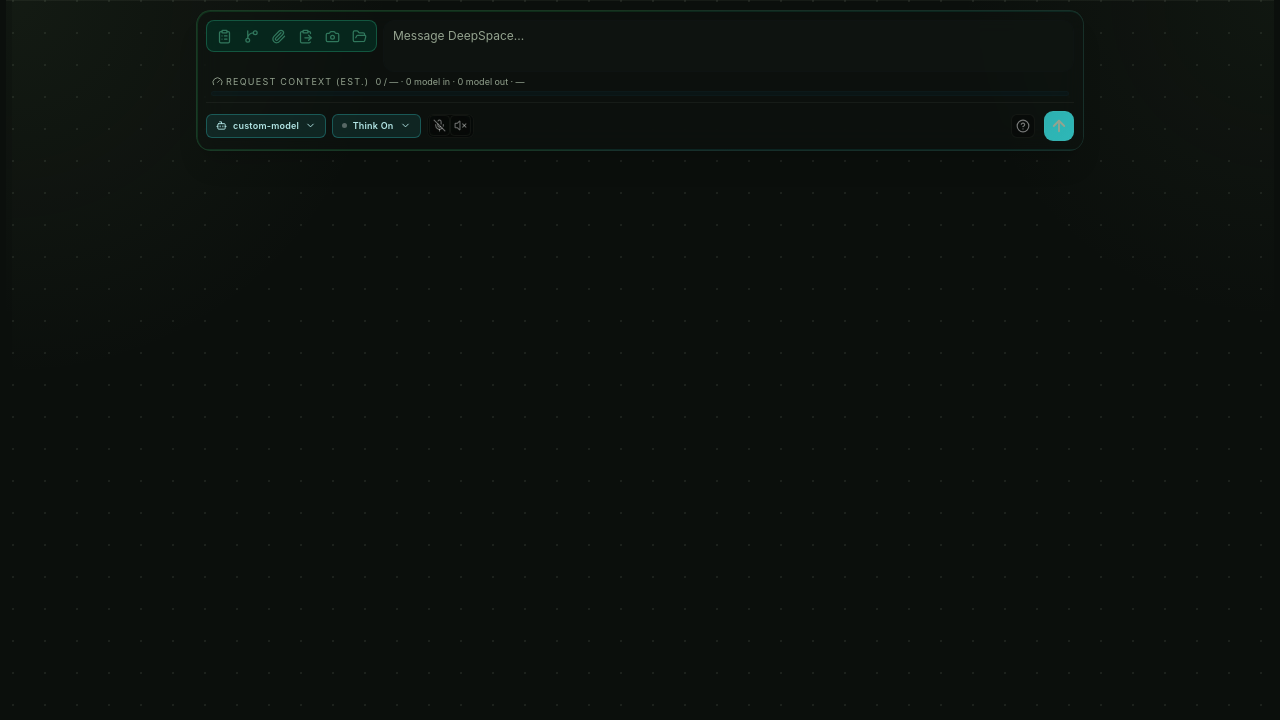
Test case: custom provider reasoning options › keeps always-on models from presenting a false Off choice
Click the button with aria-label "Choose reasoning effort".
click(376, 126)  # box [332,114,421,138]
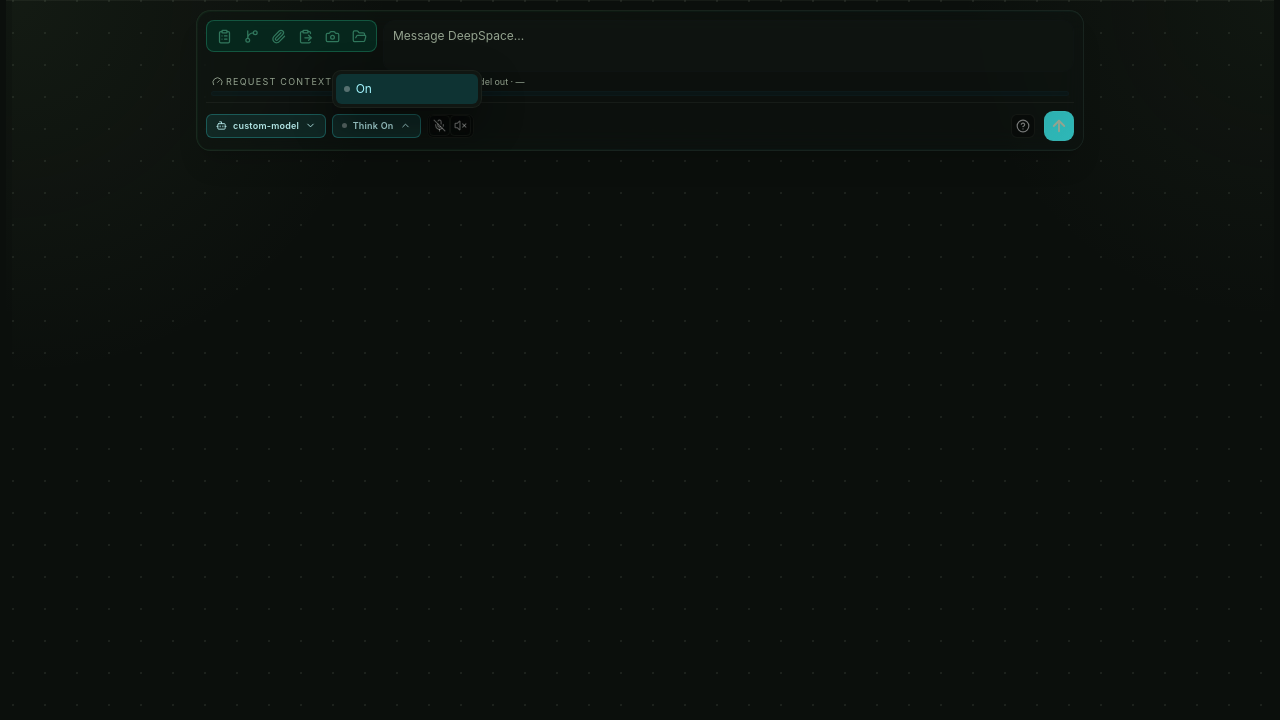
Expected: the button "On" is shown, [336,74,478,104]
